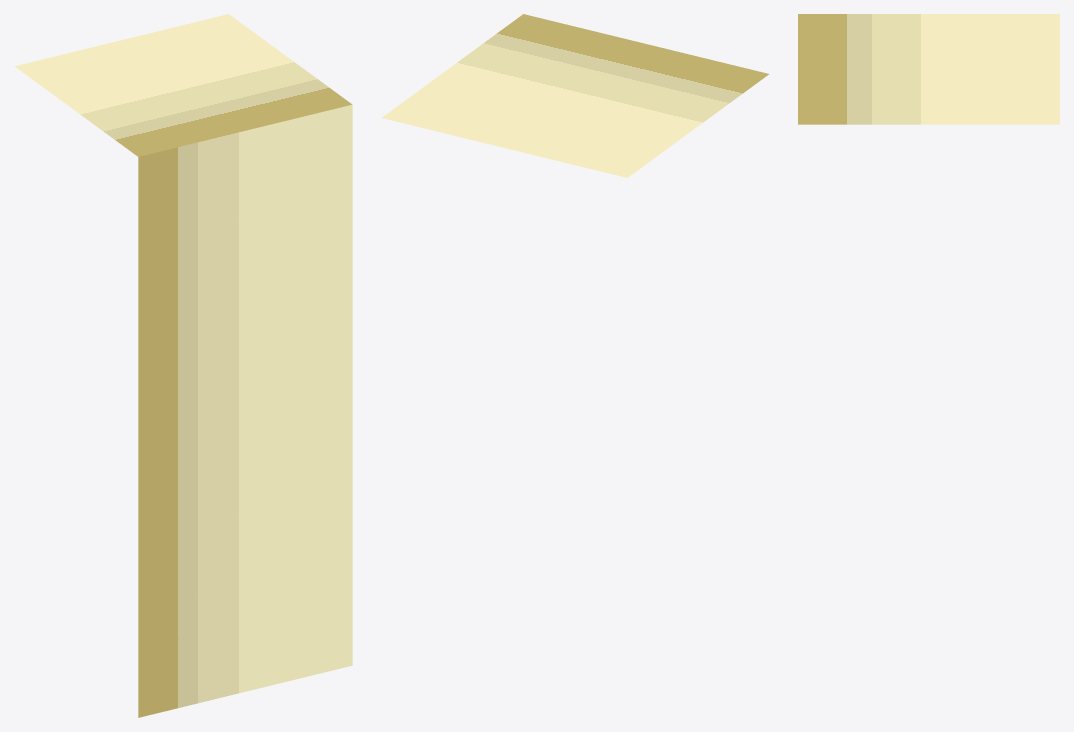
3 renders of one model, left to right at view 1: azimuth 30°, elevation 25°; view 2: azimuth 150°, elevation 25°; view 3: azimuth 270°, elevation 25°, orthographic. The views are drawn at different scales.
Size of the model in its own units: 1 by 2.5 by 1.
Materials: 1 (1 with a texture image).
